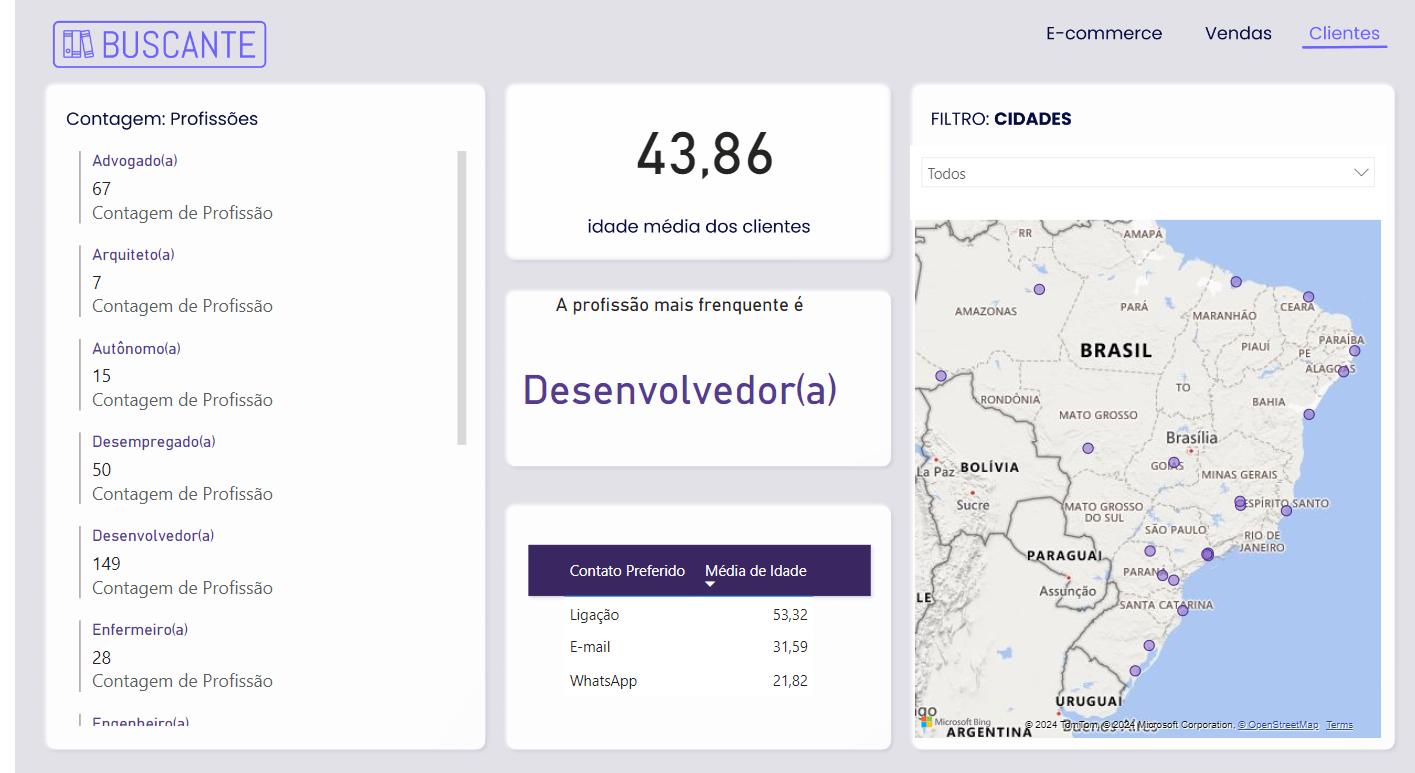

What the dashboard file says about the page in this screenshot:
{"tool":"powerbi","page":{"name":"cliente","canvas":[1280,720],"ordinal":2},"visuals":[{"type":"multiRowCard","fields":{"Values":["Clientes (2).Profissão","CountNonNull(Clientes (2).Profissão)"]},"box":[53.5,135.2,360.9,531.1],"z":0},{"type":"card","fields":{"Values":["Avg(Clientes (2).Idade)"]},"box":[533,115.7,186.7,60.3],"z":1},{"type":"card","title":"A profissão mais frenquente é","fields":{"Values":["Min(Clientes (2).Profissão)"]},"box":[370.6,268.4,464,147.8],"z":2},{"type":"map","fields":{"Category":["Clientes (2).Cidade"]},"box":[811.2,192.6,431.9,484.4],"z":3},{"type":"slicer","fields":{"Values":["Clientes (2).Cidade"]},"box":[811.2,135.2,431.9,67.1],"z":4},{"type":"tableEx","fields":{"Values":["Clientes (2).Contato Preferido","Avg(Clientes (2).Idade)"]},"box":[492.2,499.9,309.3,189.7],"z":5},{"type":"actionButton","box":[926.9,12.6,119.6,39.9],"z":6},{"type":"actionButton","box":[1056.3,12.6,100.2,39.9],"z":7}]}

Visuals, with their boxes in screenshot pixels (x1, y1, x2, y2), scaled from the page's 1280x720 canvas onto the 1415x773 screenshot:
multiRowCard - Clientes (2).Profissão x CountNonNull(Clientes (2).Profissão): region(59, 145, 458, 715)
card - Avg(Clientes (2).Idade): region(589, 124, 796, 189)
"A profissão mais frenquente é" card: region(410, 288, 923, 447)
map - Clientes (2).Cidade: region(897, 207, 1374, 727)
slicer - Clientes (2).Cidade: region(897, 145, 1374, 217)
tableEx - Clientes (2).Contato Preferido x Avg(Clientes (2).Idade): region(544, 537, 886, 740)
actionButton: region(1025, 14, 1157, 56)
actionButton: region(1168, 14, 1278, 56)
